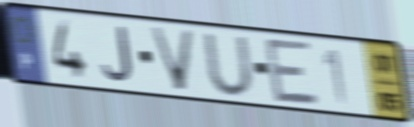1: (322, 47, 348, 106)
4: (51, 18, 90, 82)
E: (262, 36, 323, 109)
J: (99, 25, 136, 85)
U: (200, 32, 258, 100)
V: (146, 24, 198, 94)
